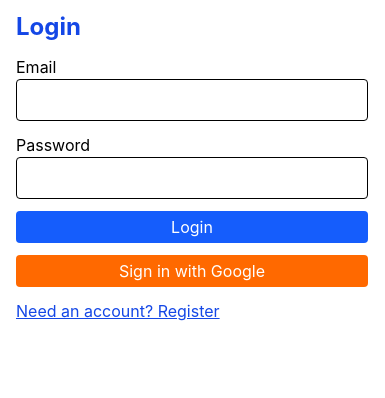
Test: validates input
Type "bad" into the field labelled "Email" at (192, 100), box [16, 79, 368, 121]
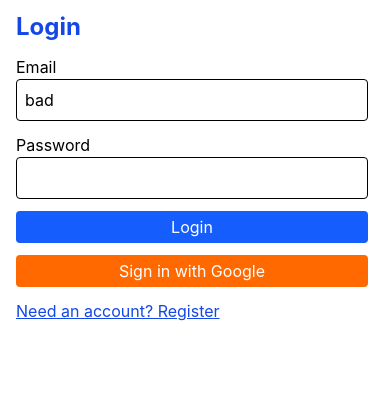
Type "123" into the password field labelled "Password" at (192, 178), box [16, 157, 368, 199]
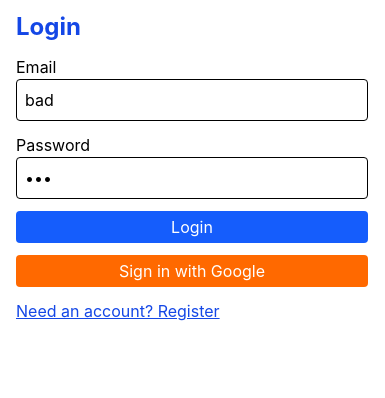
Click the button "Login" at (192, 227), box [16, 211, 368, 243]
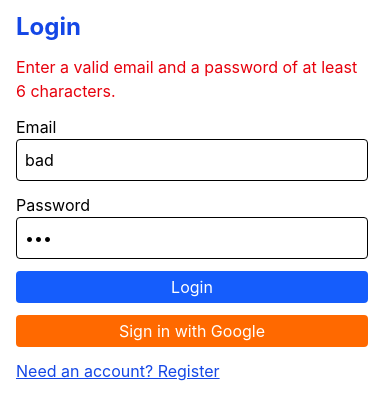
Now the message shows "valid email", box [16, 57, 357, 101]
